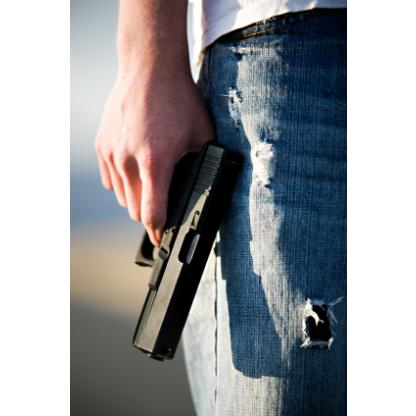gun: (107, 140, 249, 362)
